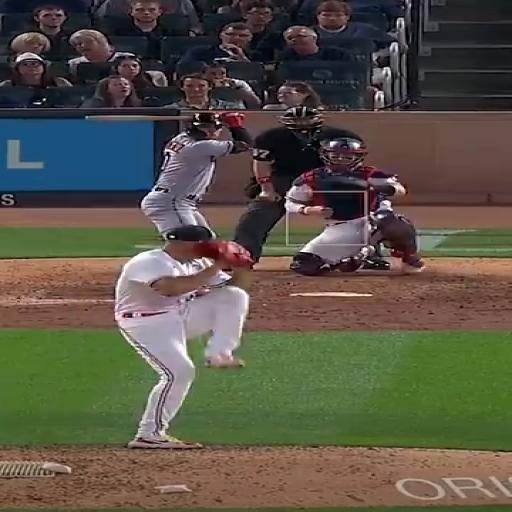bat: (86, 115, 190, 122)
